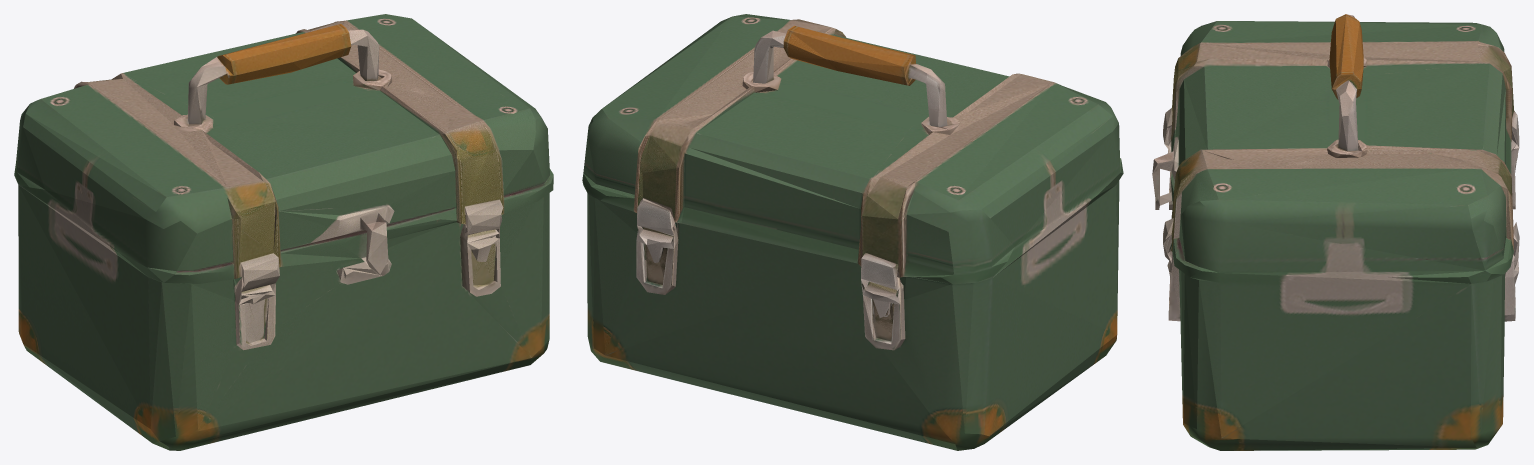
File: tackle_box.glb
3 views of the same model, side by side, from view 1: azimuth 30°, elevation 25°; view 2: azimuth 150°, elevation 25°; view 3: azimuth 270°, elevation 25° (orthographic).
Bounding box in the file's own units: 1.9 × 1.41 × 1.48.
1 material, 1 textured.
